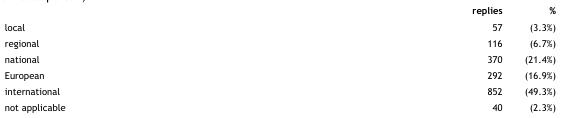table: (3, 4, 554, 111)
table column: (3, 4, 268, 111), (268, 4, 512, 111), (512, 4, 554, 111)
table column header: (3, 4, 554, 18)
table row: (3, 18, 554, 34), (3, 34, 554, 50), (3, 50, 554, 66), (3, 66, 554, 82), (3, 82, 554, 98), (3, 4, 554, 18), (3, 98, 554, 111)
